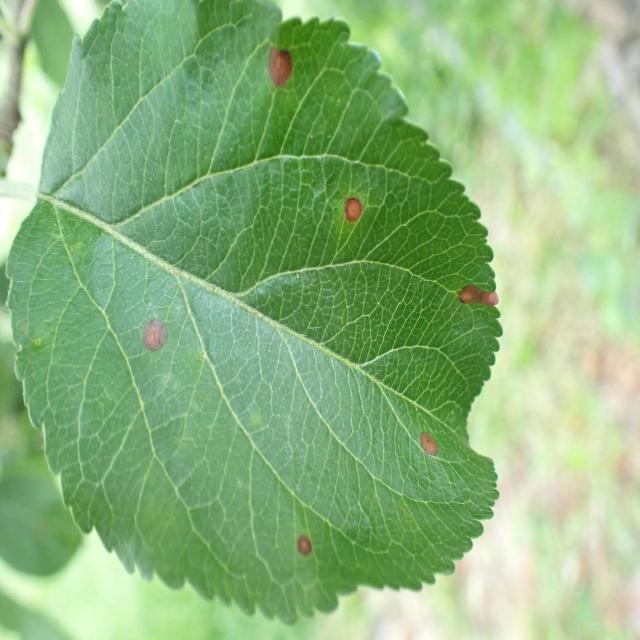Black Rot: (325, 166, 398, 286), (255, 2, 312, 116), (131, 285, 193, 373), (457, 260, 501, 352), (290, 516, 322, 590), (416, 408, 444, 483)
